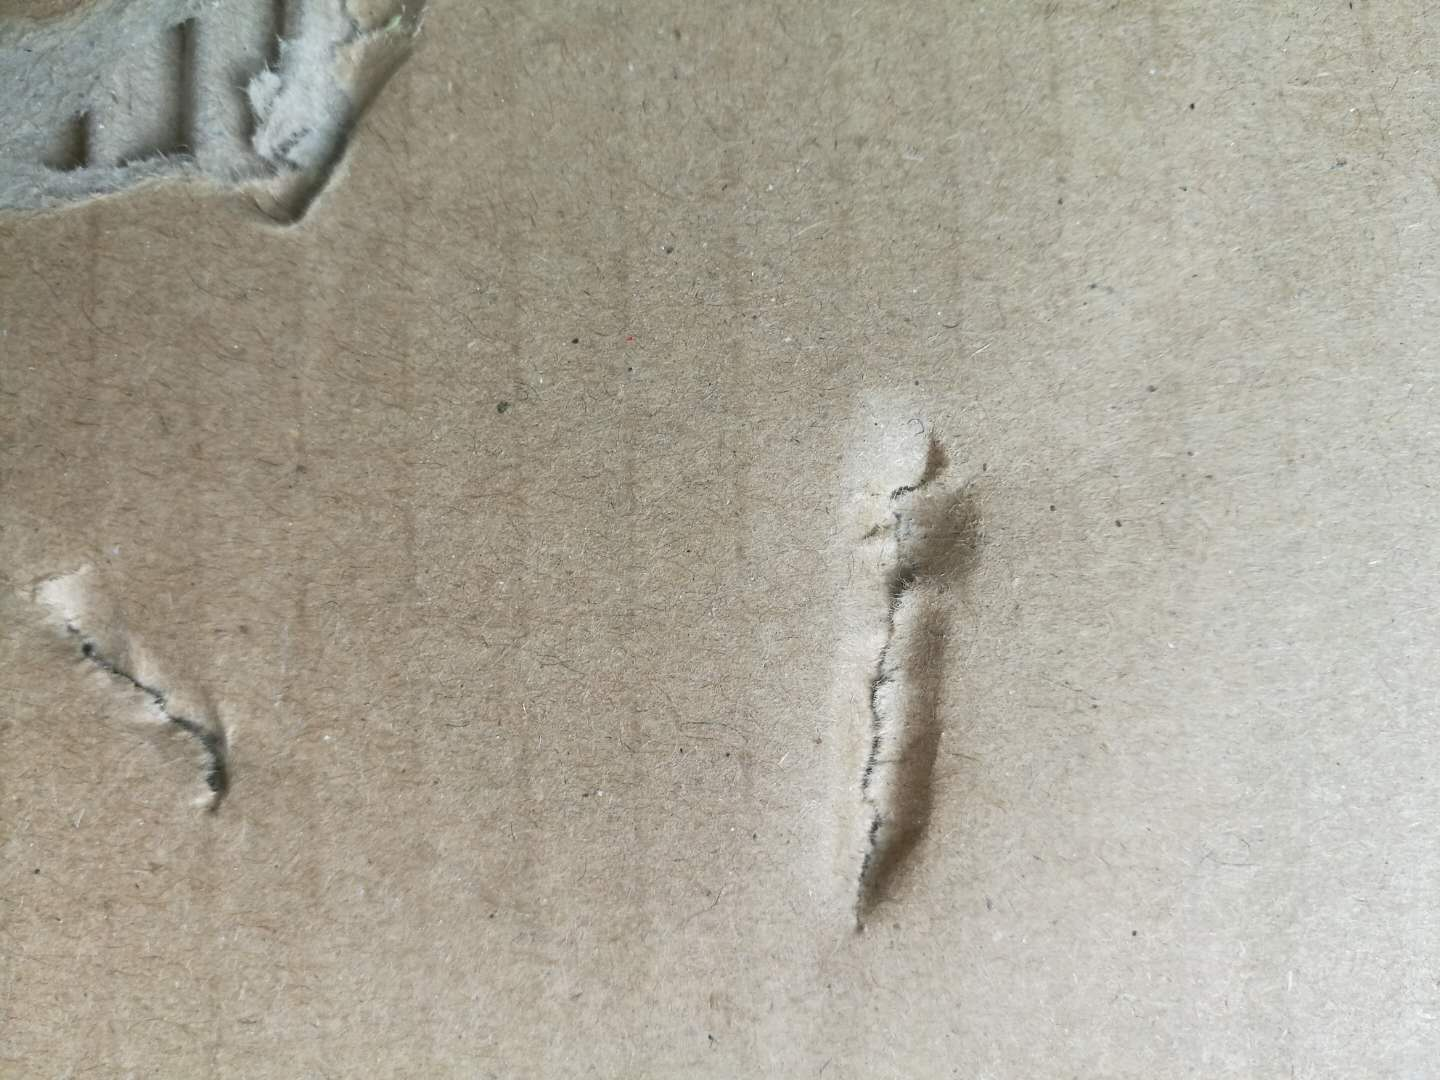defect: (793, 394, 1060, 1004), (1, 1, 490, 299), (1, 506, 304, 892)
